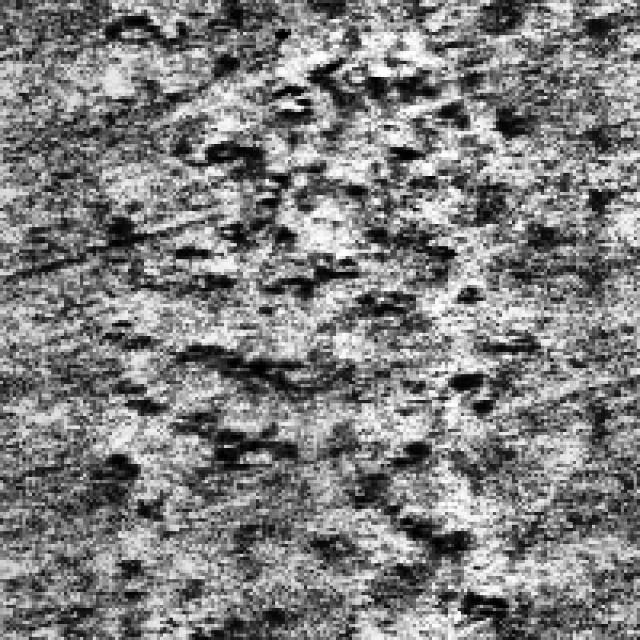Crazing: (90, 64, 356, 570), (368, 311, 518, 634)
